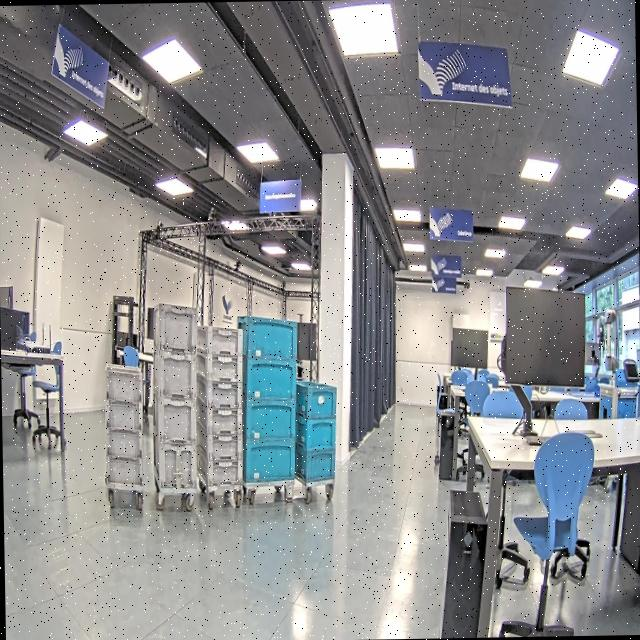Box3G: (193, 324, 246, 487)
Box4G: (149, 300, 201, 490)
Box8G: (104, 361, 146, 488)
BoxB4: (237, 313, 300, 484)
BoxB8: (292, 378, 339, 484)
